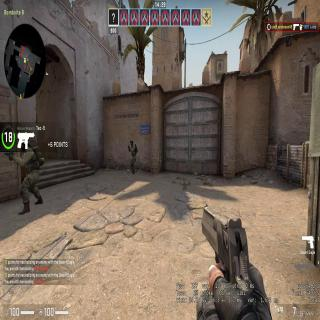CT-Body: (15, 138, 44, 204), (128, 140, 137, 170)
CT-Head: (19, 142, 31, 152), (130, 140, 134, 145)
